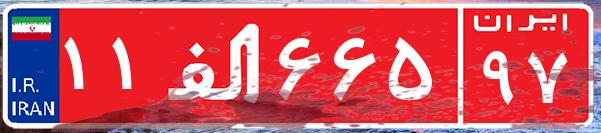1: (57, 26, 110, 107), (110, 28, 158, 105)
5: (385, 28, 445, 110)
6: (273, 28, 330, 110), (330, 28, 385, 110)
7: (525, 38, 570, 115)
9: (475, 38, 525, 113)
الف: (158, 15, 273, 115)
